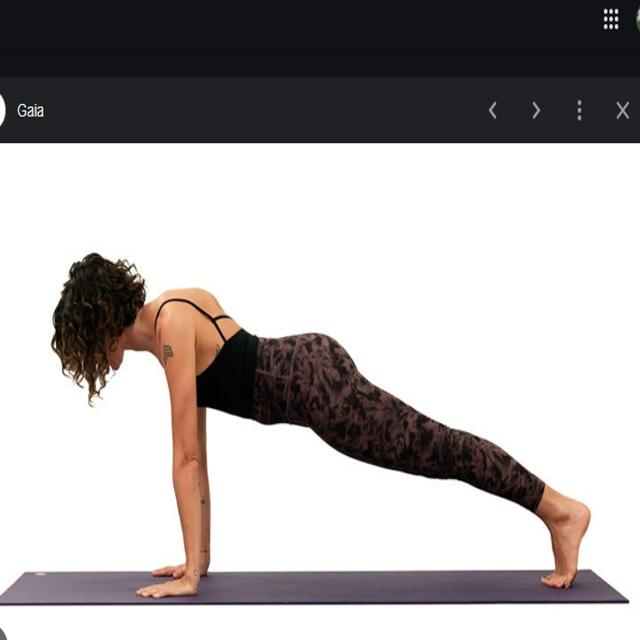Plank_Pose: (49, 246, 606, 608)
